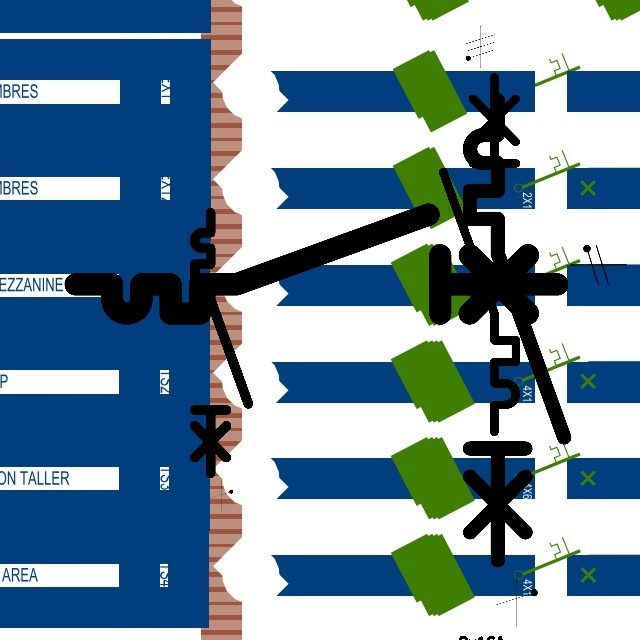interruptor_termomagnetico: (63, 202, 569, 326), (458, 88, 576, 572), (434, 68, 525, 441), (188, 206, 255, 479)
